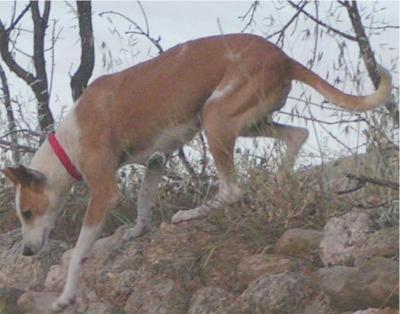Ibizan_hound: (1, 31, 393, 311)
